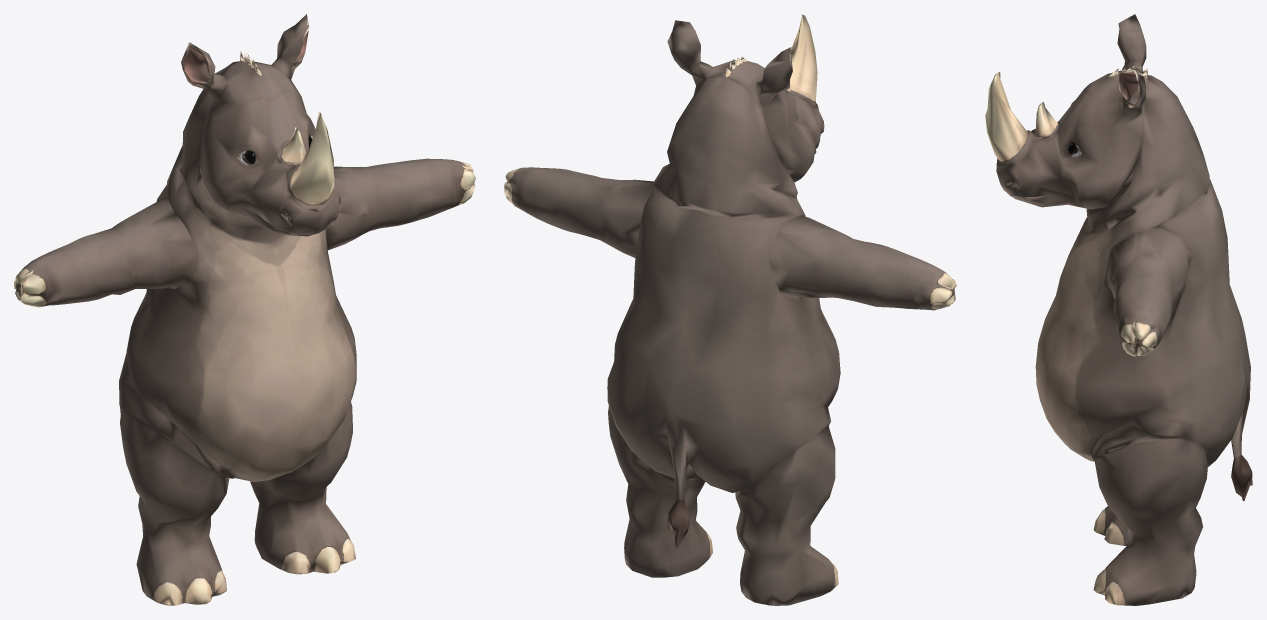
The model's file is rhino-tpose-arms-pit.glb.
The picture shows the model from 3 angles, left to right: view 1: azimuth 30°, elevation 25°; view 2: azimuth 150°, elevation 25°; view 3: azimuth 270°, elevation 25°; orthographic projection. The views are drawn at different scales.
Parts seen in each view (by area): view 1: rhinoedit; view 2: rhinoedit; view 3: rhinoedit.
Part boxes in pixels (x1,y1,x2,y2): rhinoedit: [14, 14, 475, 605]; rhinoedit: [504, 14, 956, 605]; rhinoedit: [985, 14, 1252, 605].
Size of the model in its own units: 1.67 by 1.9 by 0.8882.
1 material, 1 textured.
